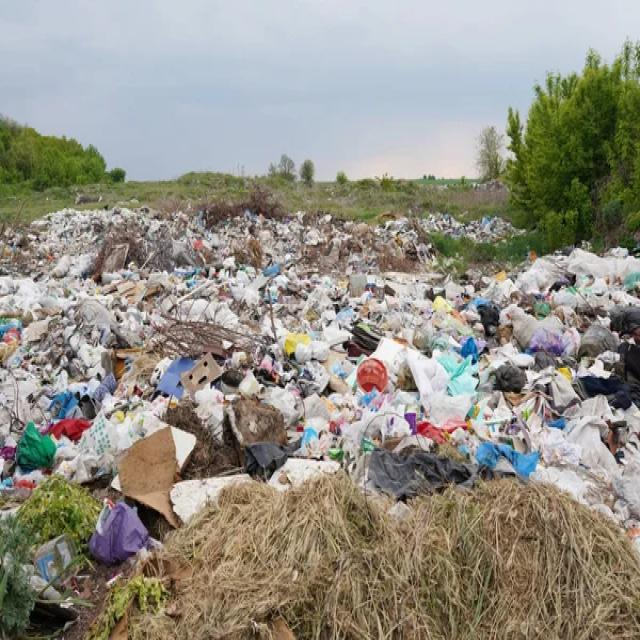garbage: (25, 194, 636, 528)
